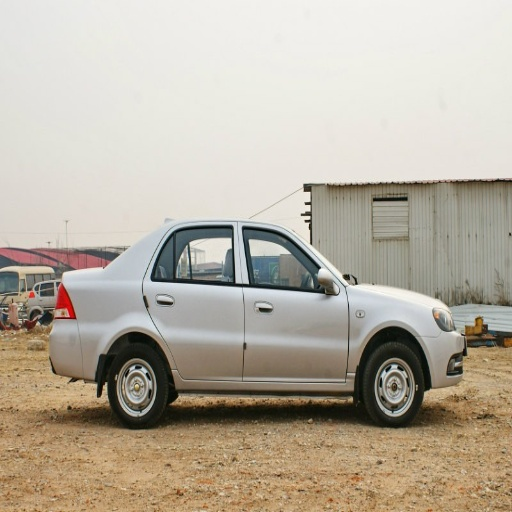back_right_door: (145, 225, 242, 381)
front_right_door: (243, 225, 349, 380)
